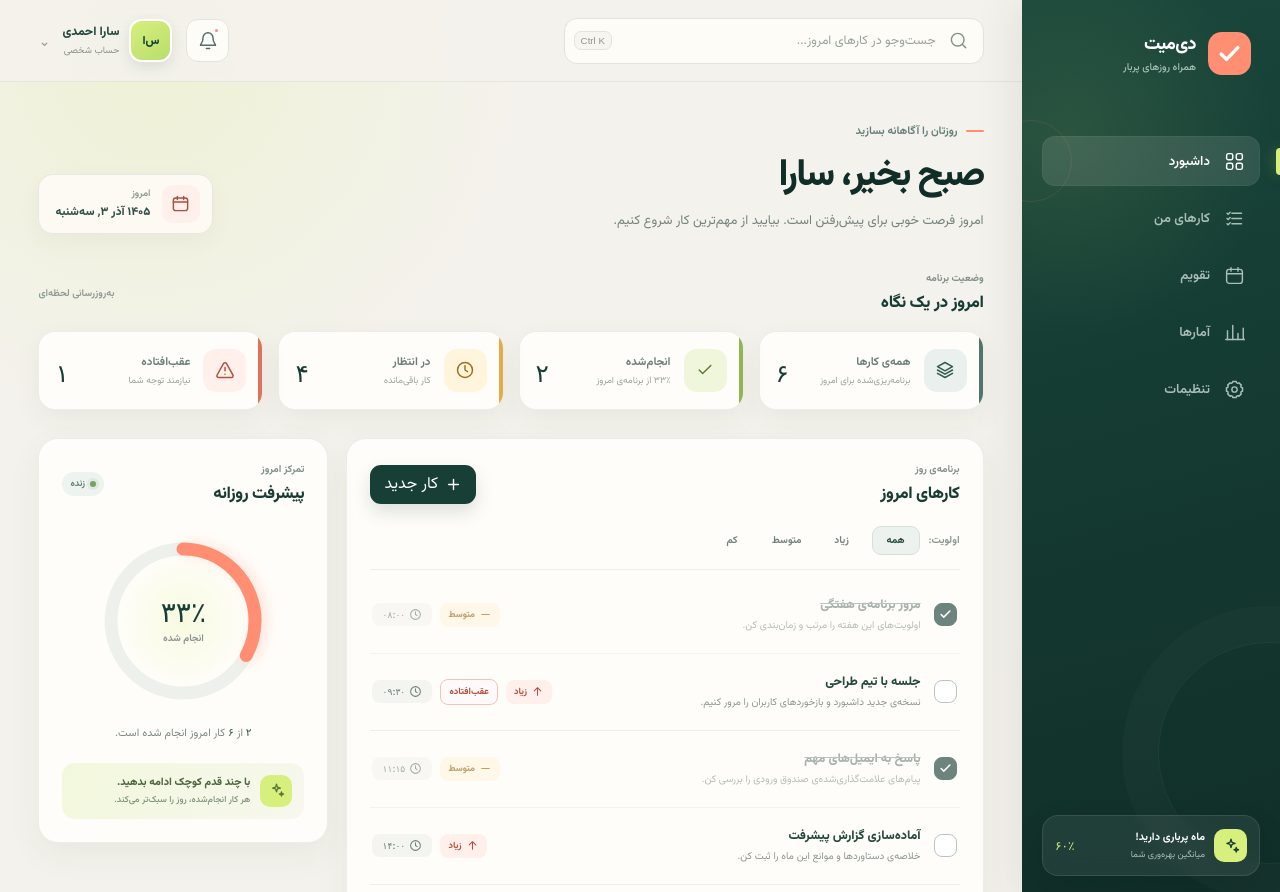
Test case: task management dashboard › filters tasks by priority and searches the visible list
Step 1. Click the button "زیاد" → (842, 540), box [818,526,866,555]
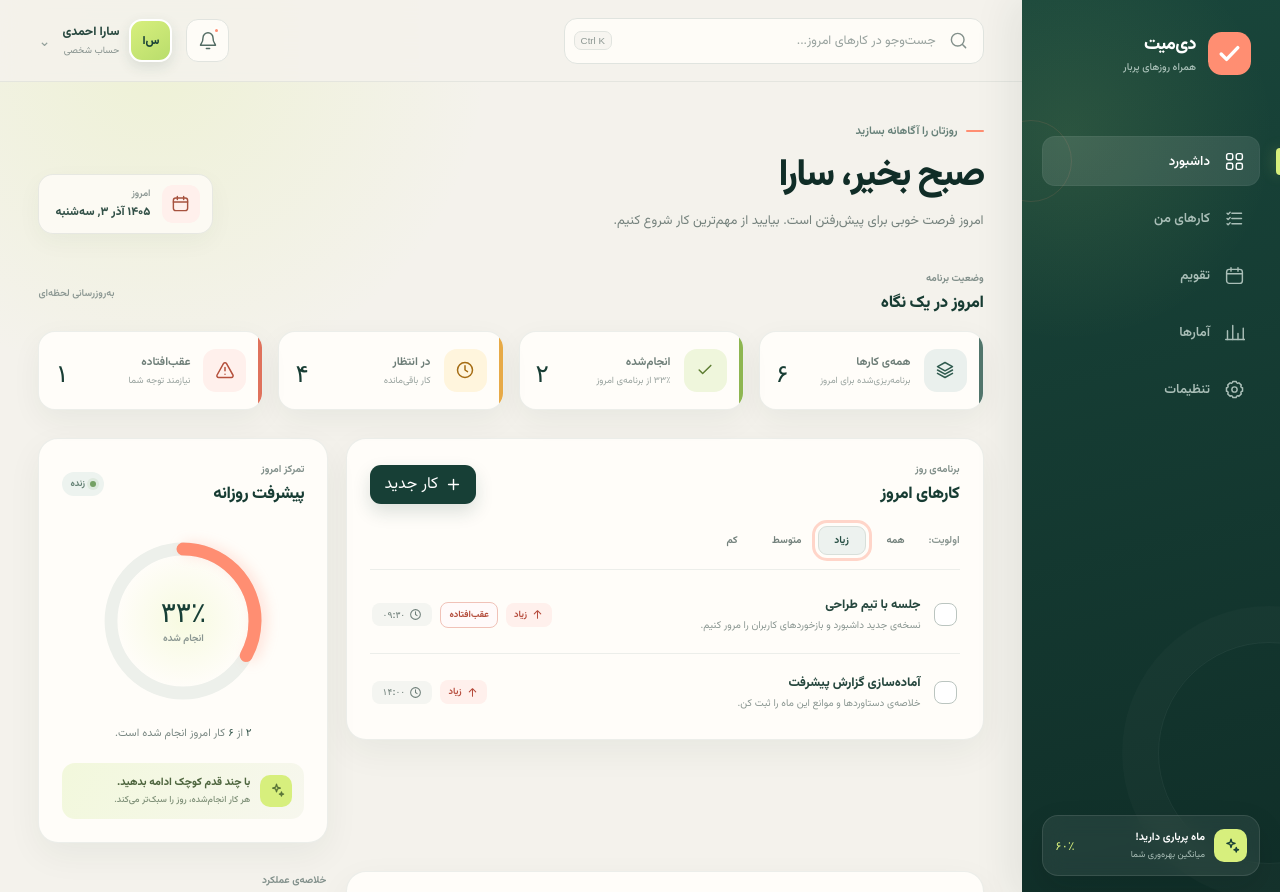
expect the text "جلسه با تیم طراحی" is shown: met, box [825,595,921,615]
expect the text "آماده‌سازی گزارش پیشرفت" is shown: met, box [788,673,921,693]
Step 2. Type keys "{Control>}k{/Control}"
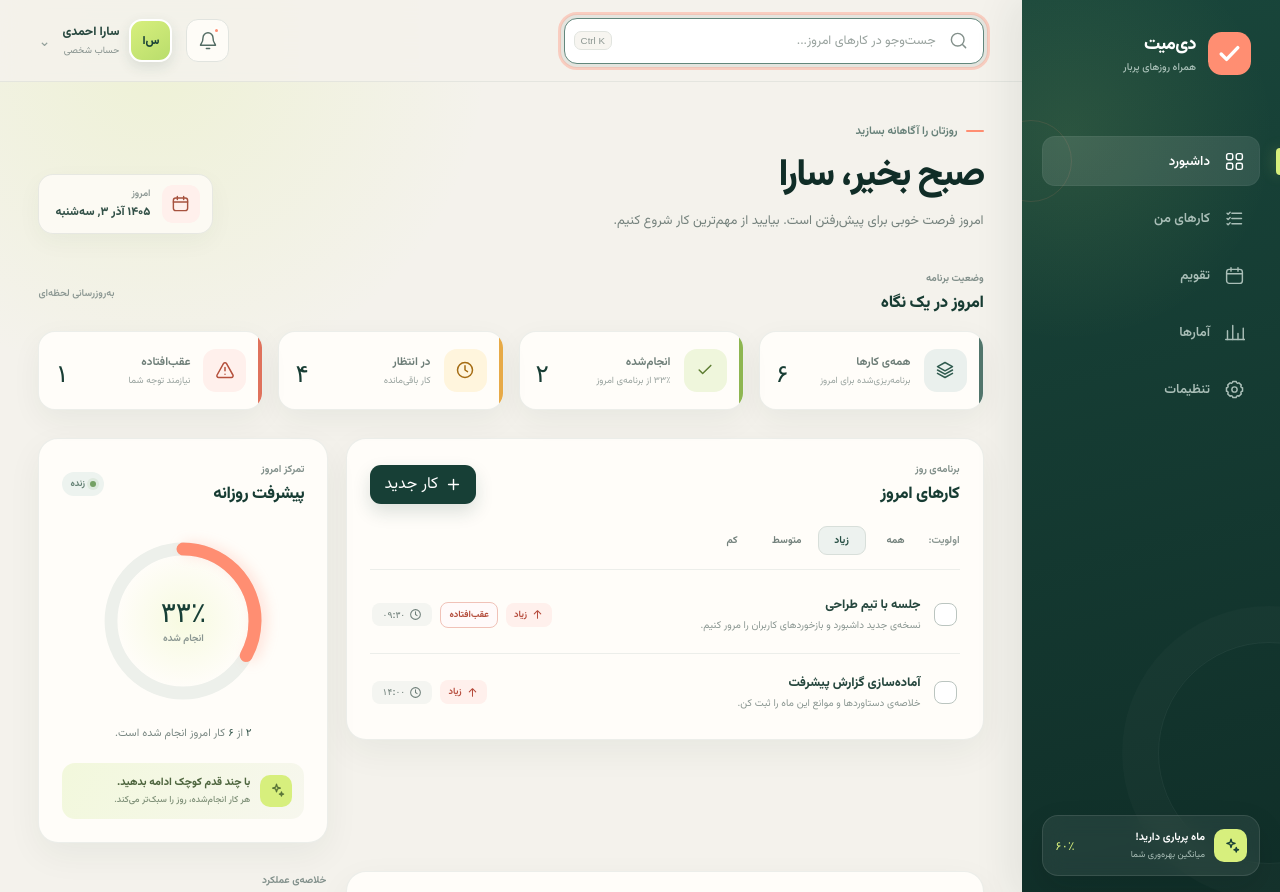
Step 3. Type "گزارش" into the search field named "جست‌وجوی کارها" → (774, 40), box [564,18,984,64]
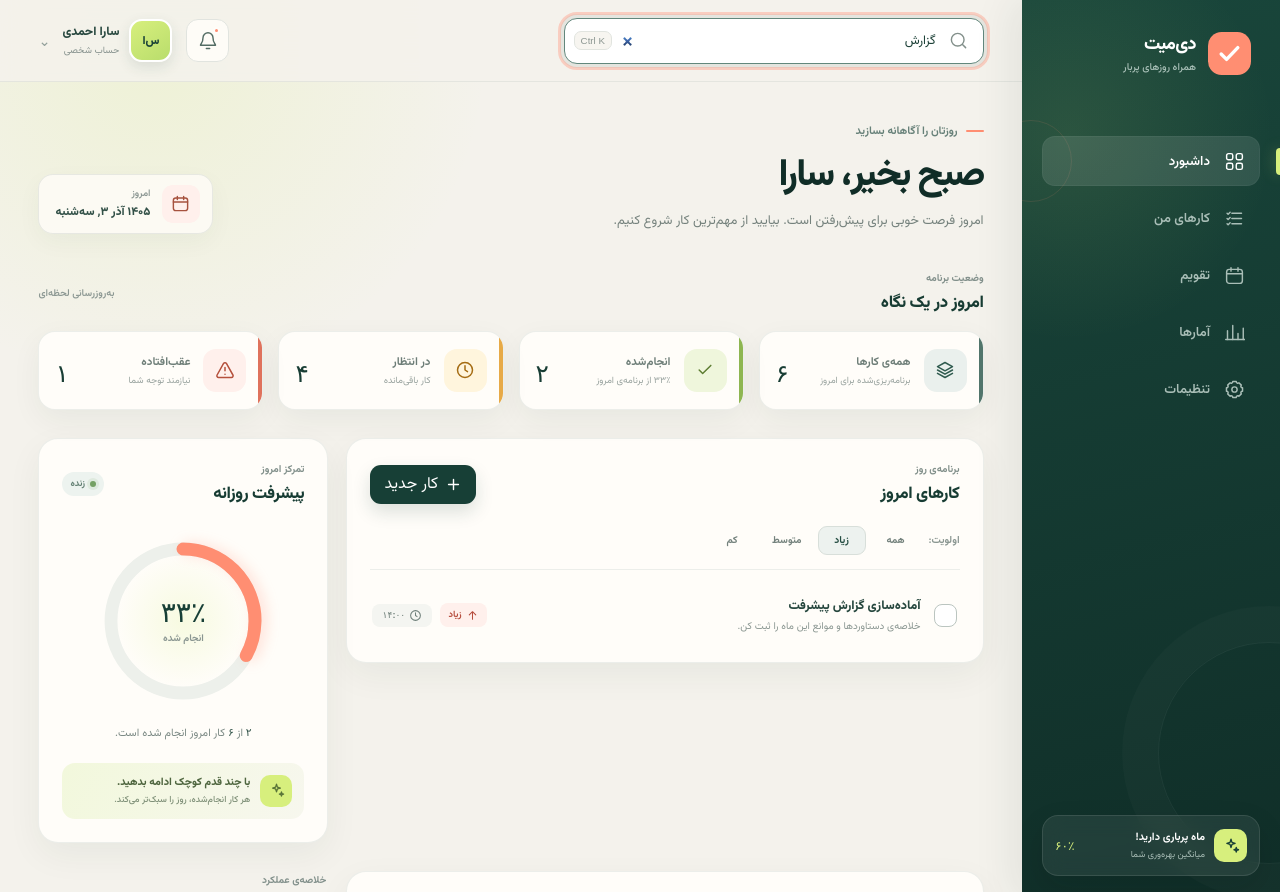
expect the text "آماده‌سازی گزارش پیشرفت" is shown: met, box [788,596,921,616]
expect the text "جلسه با تیم طراحی" is gone: met
